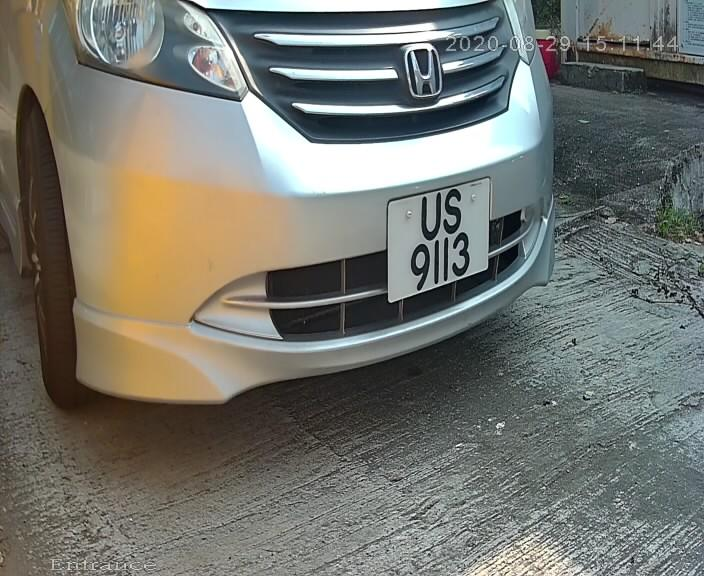License Plate: (375, 173, 494, 309)
